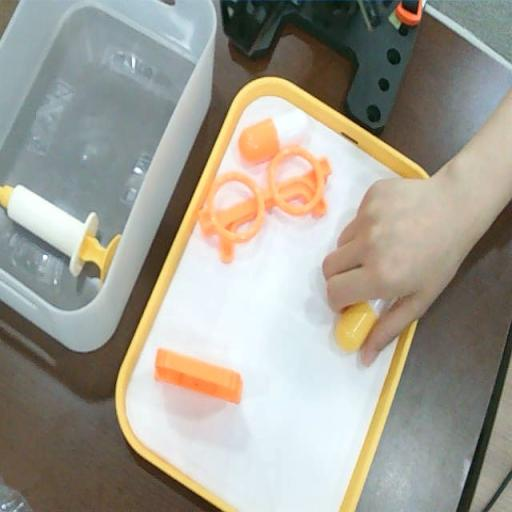hospital: (322, 173, 466, 368)
